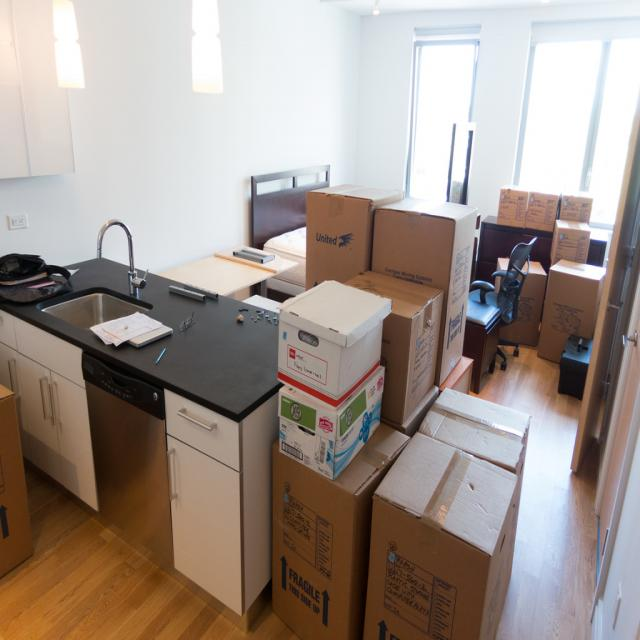desk: (0, 185, 301, 626)
